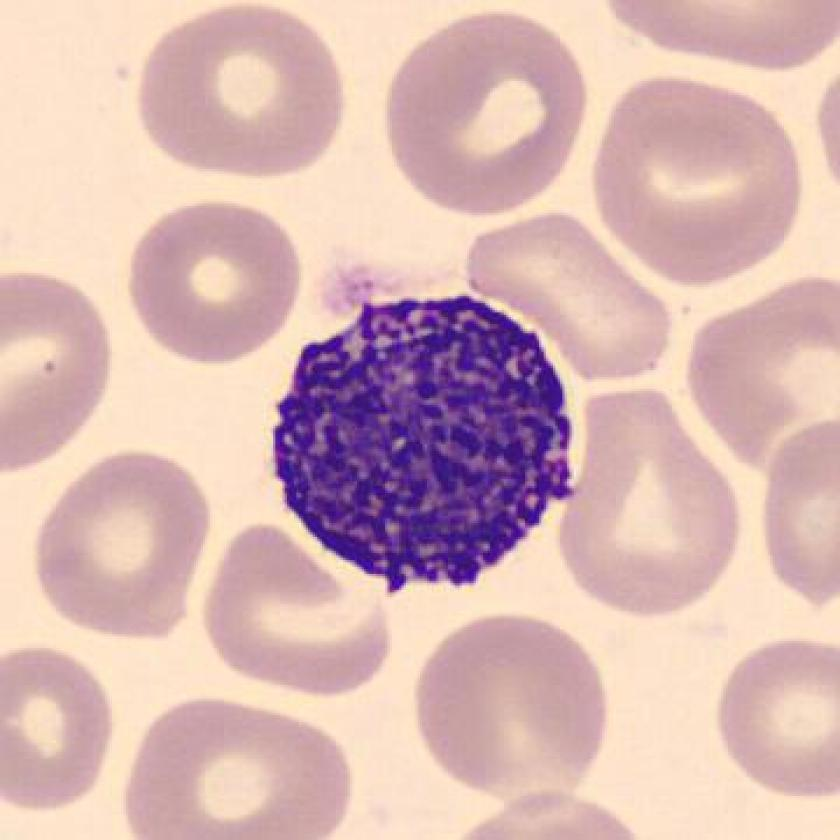basophil: (267, 288, 573, 596)
